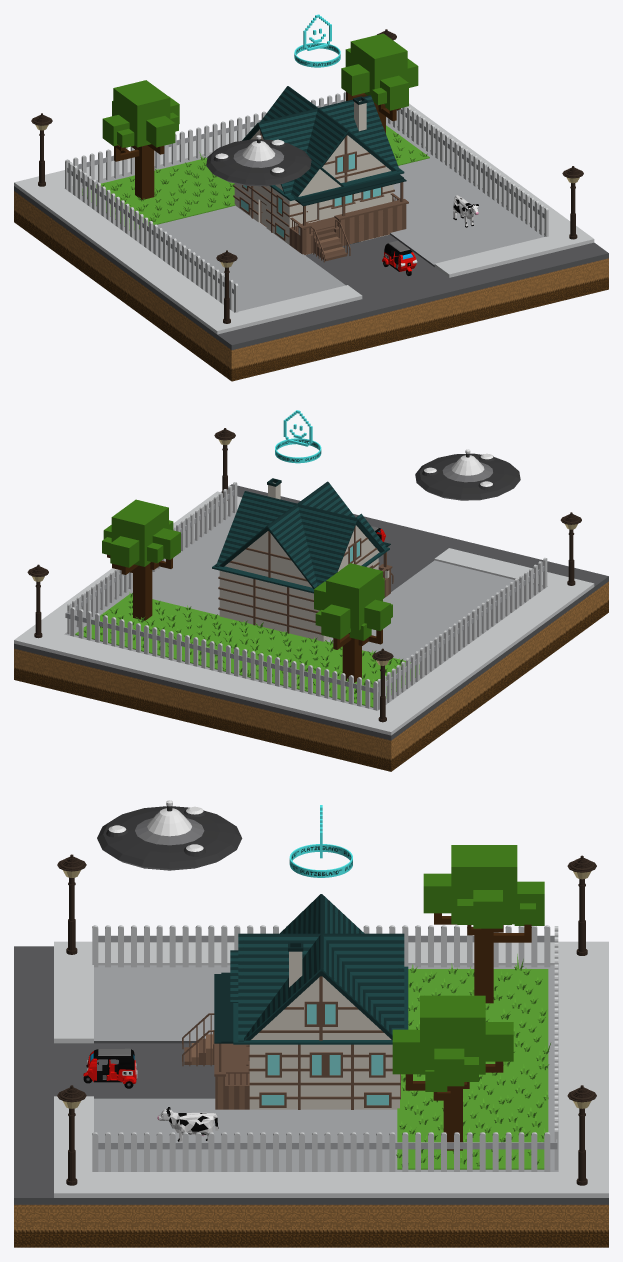
3 views of the same model, one above another, from view 1: azimuth 30°, elevation 25°; view 2: azimuth 150°, elevation 25°; view 3: azimuth 270°, elevation 25° (orthographic). The views are drawn at different scales.
Parts seen in each view (by area): view 1: Cube.004, Cube.793, OBJRANDOM_UFO, TYPE_PREMIUM, VEHICLES_TUC_TUC, ANIMAL_VACA; view 2: Cube.004, Cube.793, OBJRANDOM_UFO, TYPE_PREMIUM; view 3: Cube.004, Cube.793, OBJRANDOM_UFO, VEHICLES_TUC_TUC, TYPE_PREMIUM, ANIMAL_VACA.
Boxes of the visible parts, box(x1,y1,x2,y2) form: Cube.004: box(14, 29, 608, 381); Cube.793: box(233, 86, 408, 262); OBJRANDOM_UFO: box(206, 135, 311, 186); TYPE_PREMIUM: box(294, 14, 340, 67); VEHICLES_TUC_TUC: box(382, 240, 417, 275); ANIMAL_VACA: box(453, 195, 478, 227); Cube.004: box(14, 428, 608, 771); Cube.793: box(212, 478, 393, 641); OBJRANDOM_UFO: box(415, 449, 520, 500); TYPE_PREMIUM: box(275, 410, 321, 463); Cube.004: box(14, 845, 608, 1247); Cube.793: box(182, 894, 408, 1109); OBJRANDOM_UFO: box(97, 800, 242, 870); VEHICLES_TUC_TUC: box(83, 1048, 137, 1088); TYPE_PREMIUM: box(289, 805, 352, 877); ANIMAL_VACA: box(157, 1107, 218, 1142).
Size of the model in its own units: 4000 by 2475 by 4000.
Materials: 30 (5 with a texture image).
